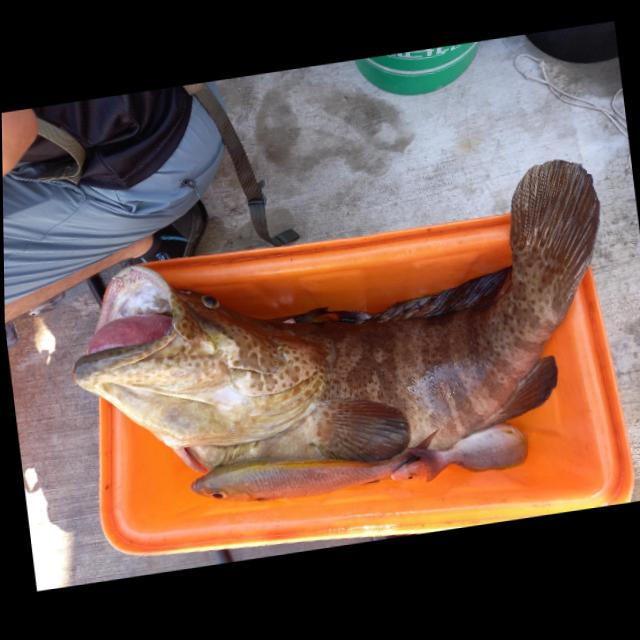Groupers: (51, 155, 624, 499)
